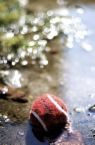tennis ball: (28, 94, 71, 137)
